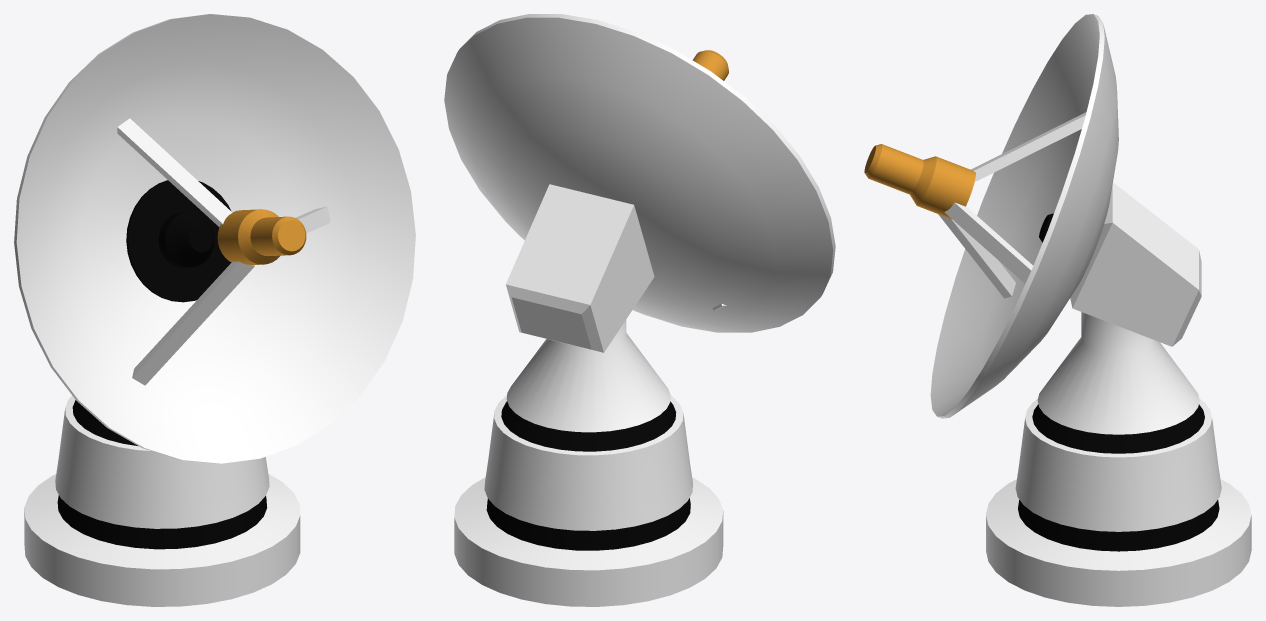
File: Radar.fbx
The picture shows the model from 3 angles, left to right: view 1: azimuth 30°, elevation 25°; view 2: azimuth 150°, elevation 25°; view 3: azimuth 270°, elevation 25°; orthographic projection. The views are drawn at different scales.
Parts seen in each view (by area): view 1: Sphere, Cylinder.002; view 2: Sphere, Cylinder.002; view 3: Sphere, Cylinder.002.
Boxes of the visible parts, <box> form: Sphere: <box>14,14,415,463</box>; Cylinder.002: <box>24,395,300,606</box>; Sphere: <box>444,14,835,352</box>; Cylinder.002: <box>454,320,723,606</box>; Sphere: <box>864,14,1201,418</box>; Cylinder.002: <box>986,312,1251,606</box>.
Size of the model in its own units: 163 by 214 by 146.
